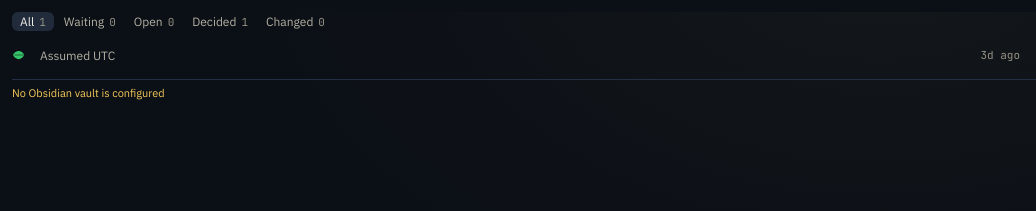
LivingMap › opens an item's details, and names what a source could not read
Step 1. Click the button "Assumed UTC" → (96, 55), box [34,46,972,64]
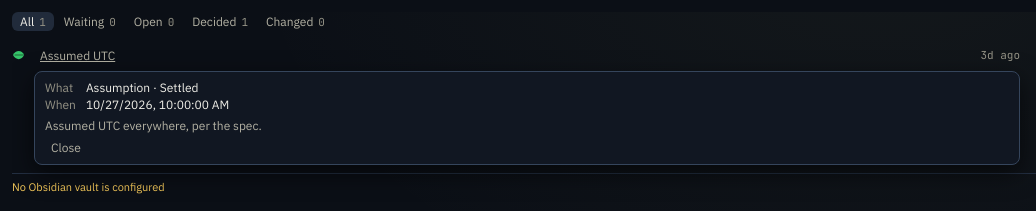
Expected: the message reads "No Obsidian vault is configured", [12,180,165,194]
Expected: the button "Assumed UTC" is expanded, [34,46,972,64]
Expected: the text "Assumed UTC everywhere, per the spec." is shown, [45,118,262,133]
